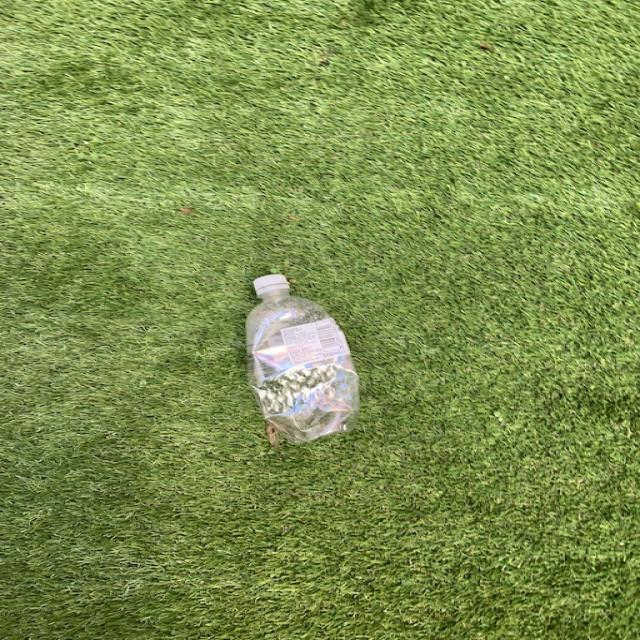Plastic: (246, 275, 359, 447)
